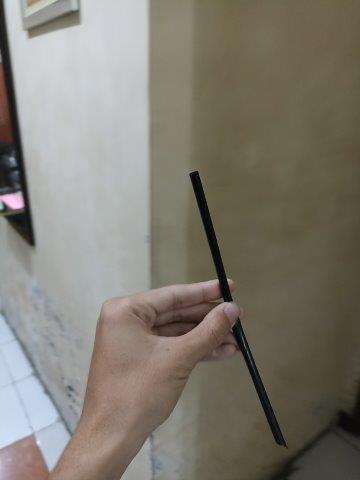sedotan: (192, 172, 288, 443)
